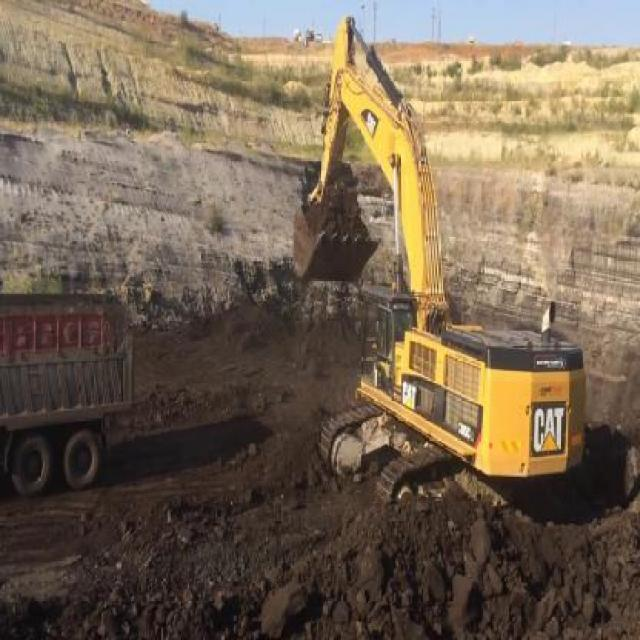Dump Truck: (0, 273, 134, 492)
Excavator: (280, 14, 589, 532)
